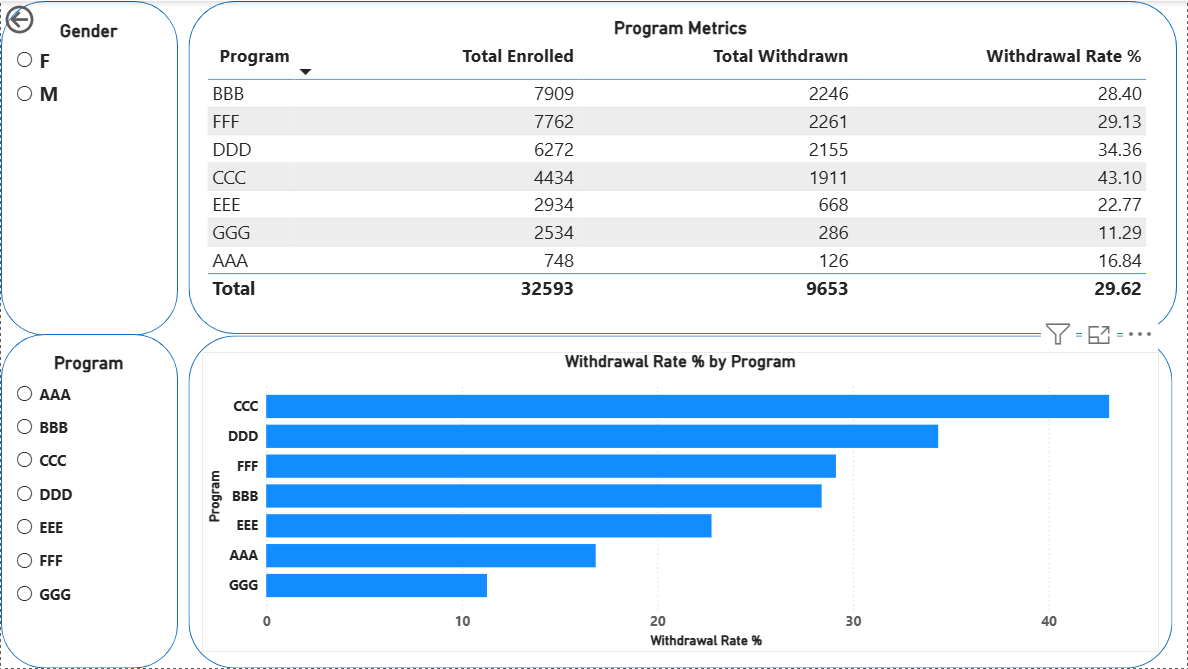

Layout of this report page (visuals, bound fields, positions):
{"tool":"powerbi","page":{"name":"Program Metric","canvas":[1280,720],"ordinal":2},"visuals":[{"type":"shape","box":[0,0,191.1,361.1],"z":0},{"type":"shape","box":[0,359.5,191.1,361.1],"z":1000},{"type":"listSlicer","fields":{"Values":["vw_enrollment_master.gender"]},"box":[11.3,21,166.8,320.6],"z":2000},{"type":"listSlicer","fields":{"Values":["vw_enrollment_master.code_module"]},"box":[11.3,378.9,166.8,323.8],"z":2001},{"type":"shape","box":[202.4,0,1067.1,359.5],"z":2002},{"type":"tableEx","title":"Program Metrics","fields":{"Values":["vw_enrollment_master.code_module","vw_enrollment_master.Total Enrolled","vw_enrollment_master.Total Withdrawn","vw_enrollment_master.Withdrawal Rate %"]},"box":[217,17.8,1033.1,323.8],"z":2003},{"type":"shape","box":[202.4,361.1,1062.2,359.5],"z":2004},{"type":"clusteredBarChart","title":"Withdrawal Rate % by  Program","fields":{"Category":["vw_enrollment_master.code_module"],"Y":["vw_enrollment_master.Withdrawal Rate %"]},"box":[217,378.9,1033.1,323.8],"z":2005},{"type":"actionButton","box":[0,0,100,40],"z":2006}]}

Visuals, with their boxes in screenshot pixels (x1, y1, x2, y2), scaled from the page's 1280x720 canvas onto the 1188x669 screenshot:
shape: 0:0:177:336
shape: 0:334:177:668
listSlicer - vw_enrollment_master.gender: 10:20:165:317
listSlicer - vw_enrollment_master.code_module: 10:352:165:653
shape: 188:0:1178:334
"Program Metrics" tableEx: 201:17:1160:317
shape: 188:336:1174:668
"Withdrawal Rate % by  Program" clusteredBarChart: 201:352:1160:653
actionButton: 0:0:93:37
